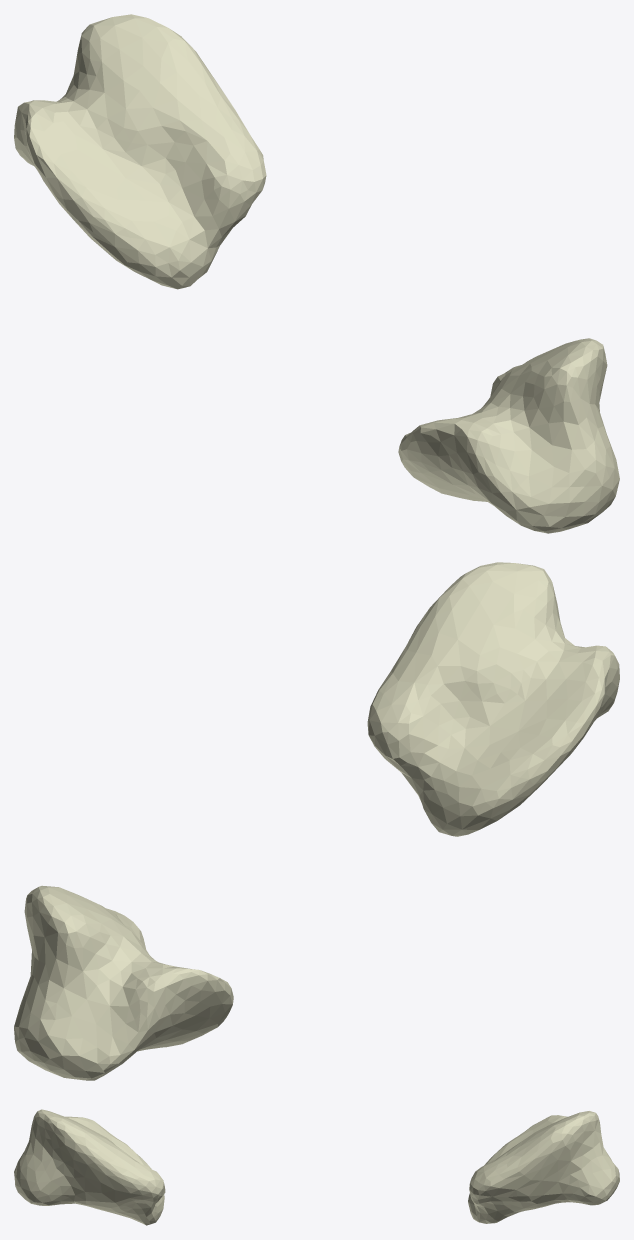
3 renders of one model, top to bottom at view 1: azimuth 30°, elevation 25°; view 2: azimuth 150°, elevation 25°; view 3: azimuth 270°, elevation 25°, orthographic. The views are drawn at different scales.
Parts seen in each view (by area): view 1: 91.obj; view 2: 91.obj; view 3: 91.obj.
Part boxes in pixels (x1,y1,x2,y2): 91.obj: (14, 14, 619, 533); 91.obj: (14, 562, 619, 1080); 91.obj: (14, 1109, 619, 1225).
Bounding box in the file's own units: 1025 × 1045 × 4914.
